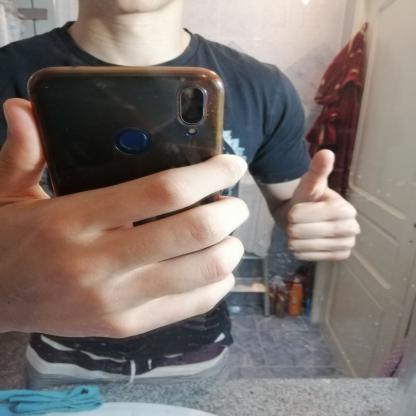ALIF: (264, 141, 369, 267)
